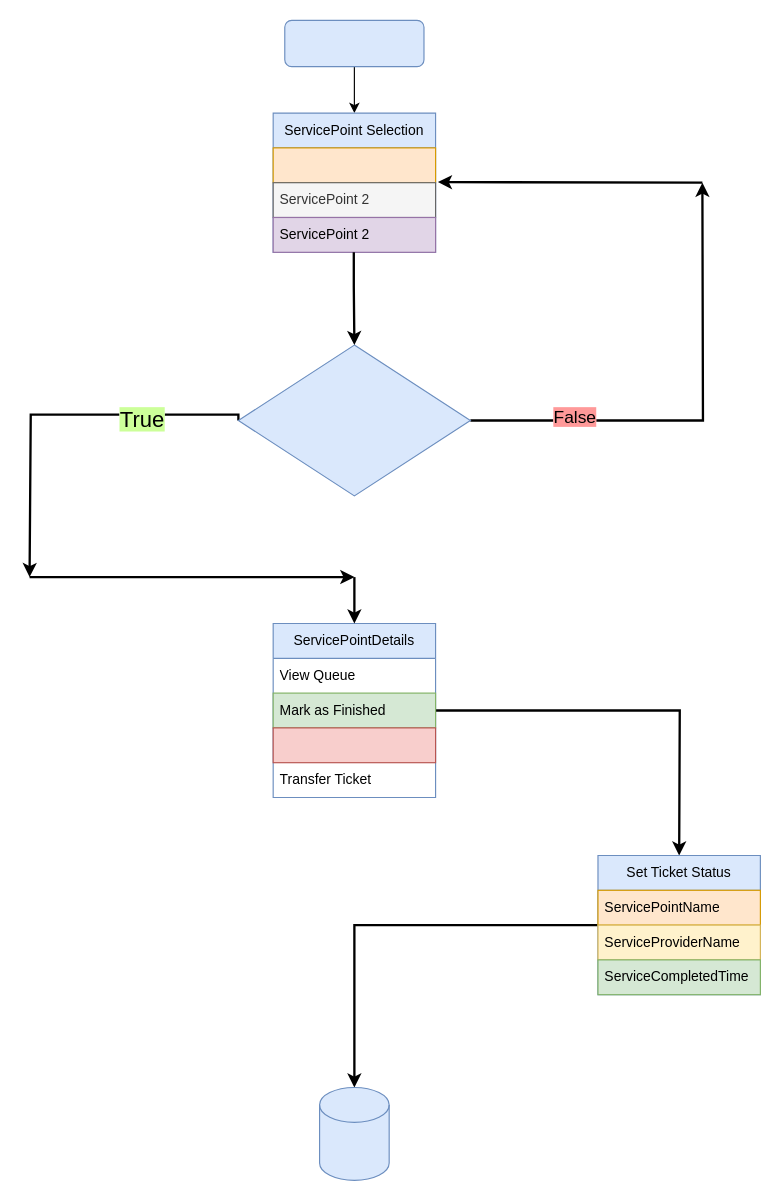
This 781x1201 diagram has some shape labels left out. Each missing label, with the centre of its shape:
"Can Serve Selected ServicePoint?" goes at (353,420).
"Login" goes at (354,43).
"Mark as No Show" goes at (354,745).
"Send Ticket to Db" goes at (353,1133).
"ServicePointt 1" goes at (354,165).
